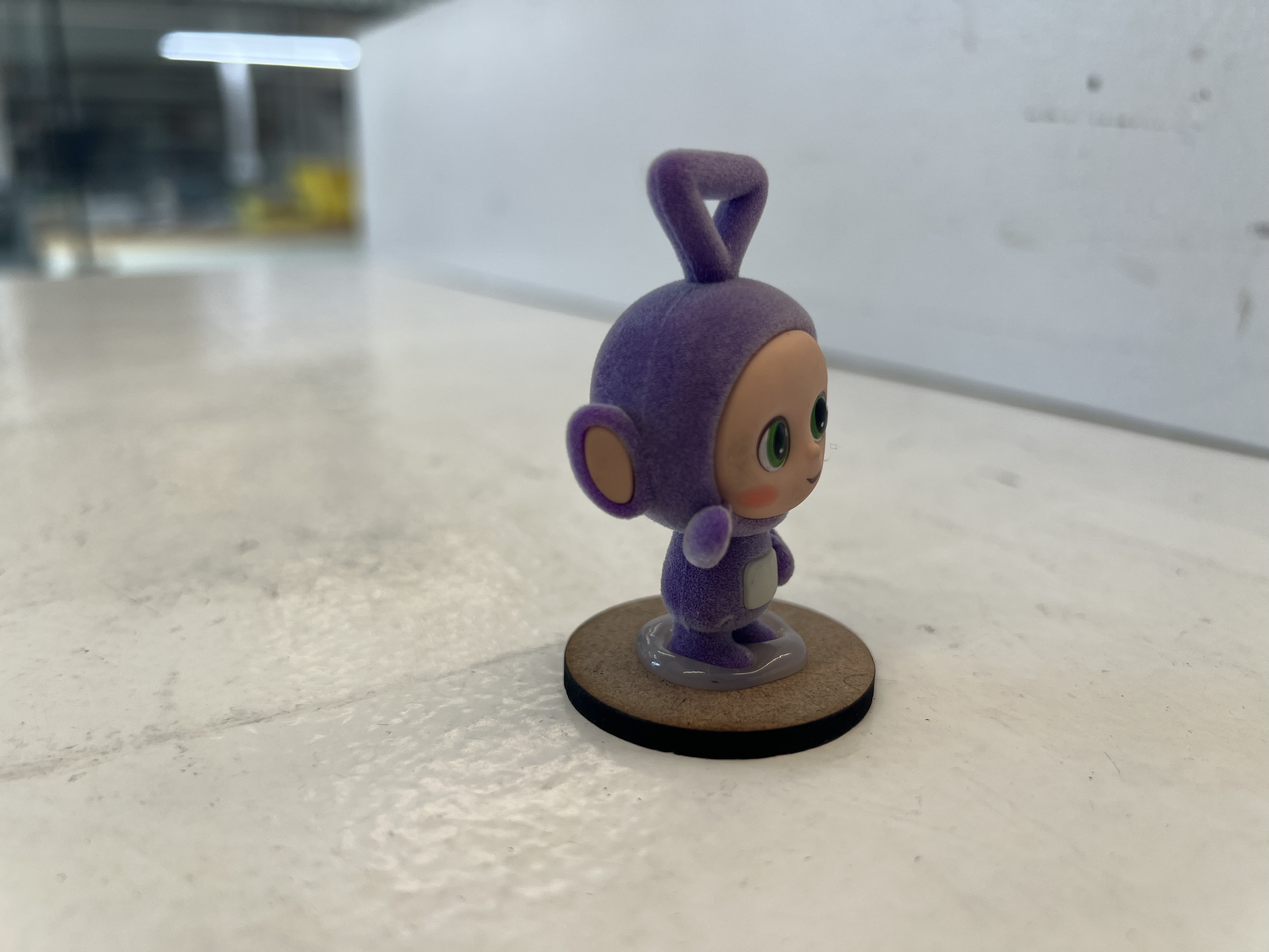teletubby: (567, 150, 827, 674)
